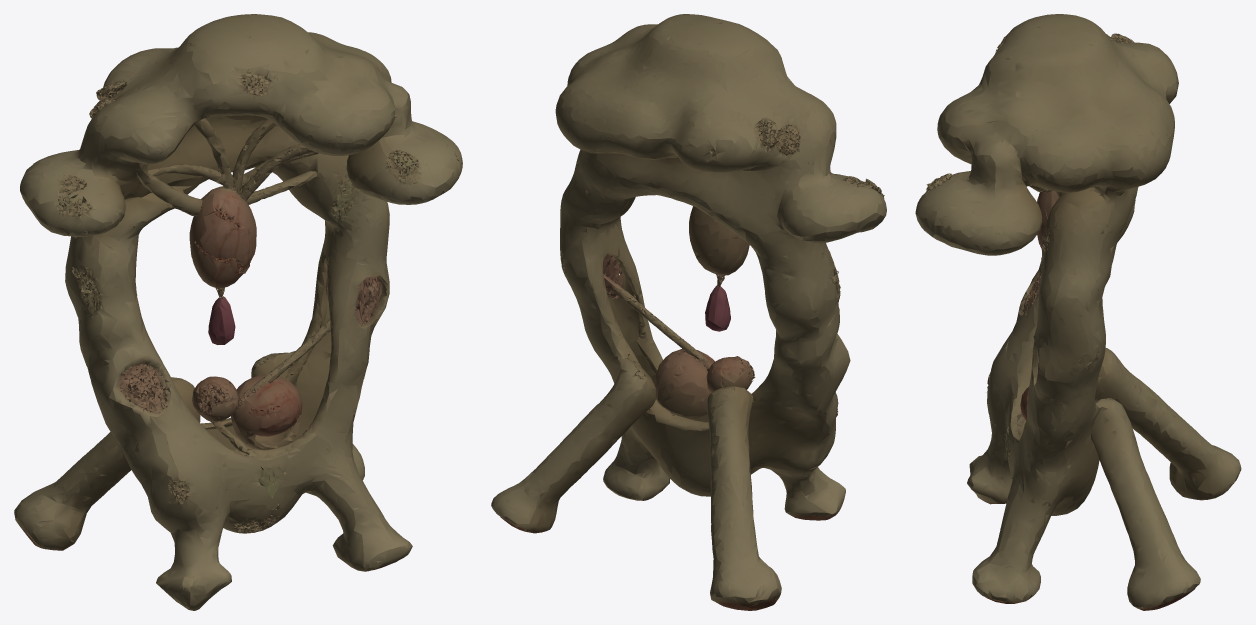
Rendered from offset-keyhole-canopy-strider-clay-depth-normal-prior-led-invention-seed718401.glb.
3 views of the same model, side by side, from view 1: azimuth 30°, elevation 25°; view 2: azimuth 150°, elevation 25°; view 3: azimuth 270°, elevation 25° (orthographic). The views are drawn at different scales.
Parts seen in each view (by area): view 1: world; view 2: world; view 3: world.
Boxes of the visible parts, x1=… form: world: x1=14, y1=14, x2=462, y2=610; world: x1=491, y1=14, x2=886, y2=610; world: x1=915, y1=14, x2=1241, y2=610.
Bounding box in the file's own units: 0.7204 × 0.9993 × 0.5673.
Materials: 1 (1 with a texture image).
